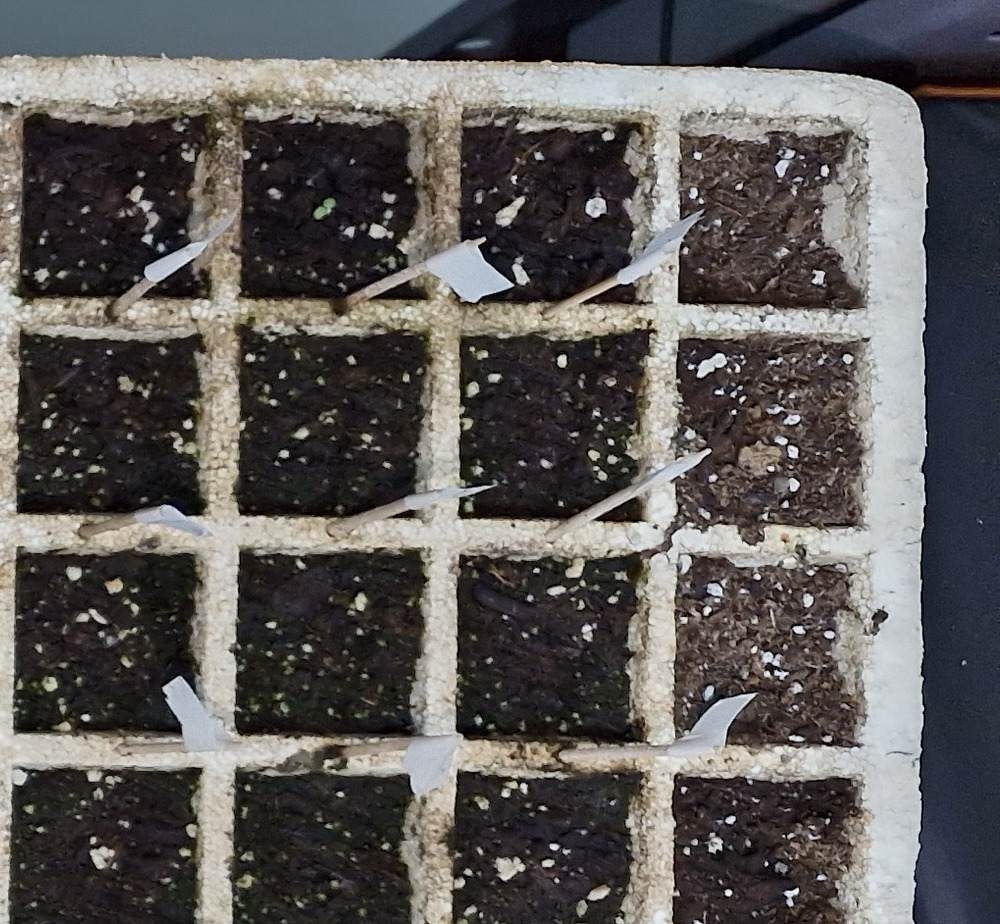Folha: (313, 206, 325, 219), (323, 198, 336, 208)
Germinacao: (315, 198, 335, 219)
